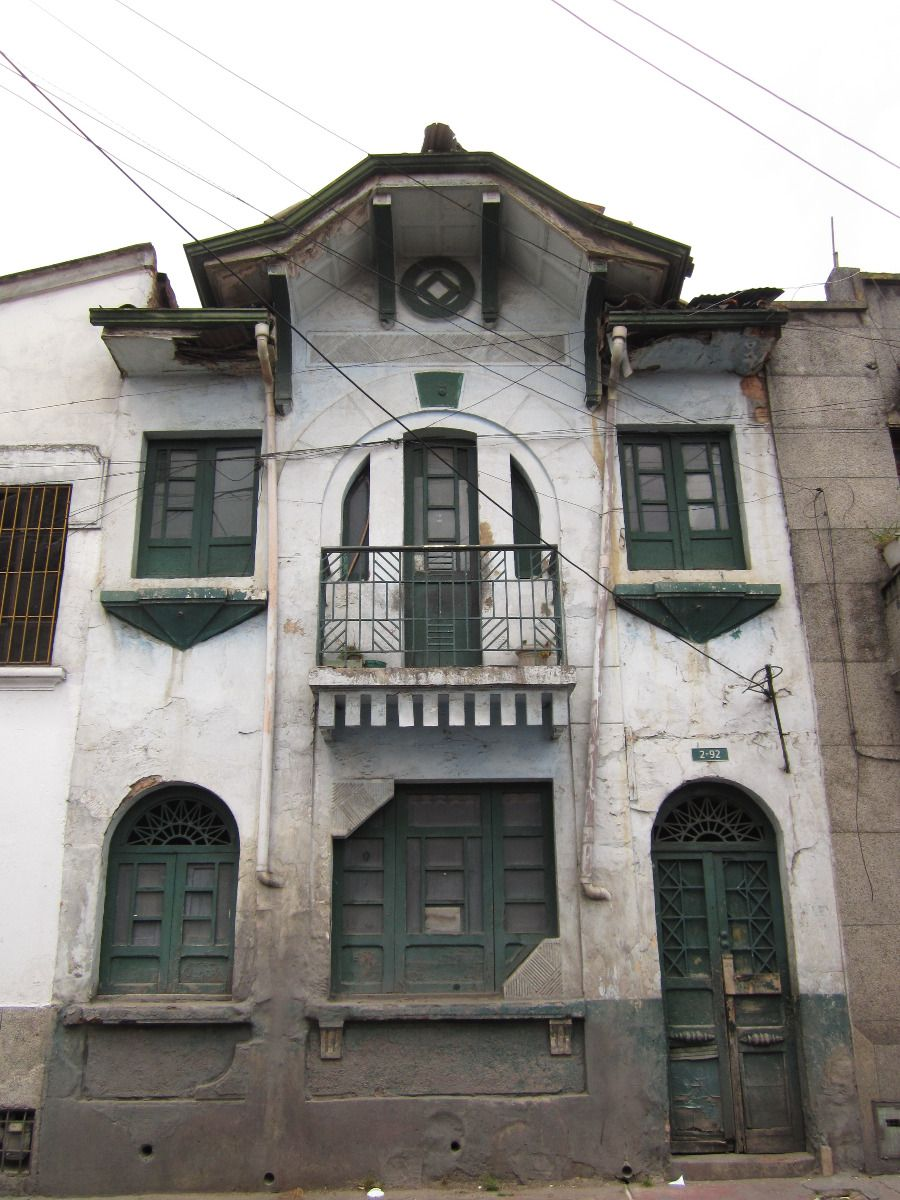House: (110, 98, 854, 1182)
